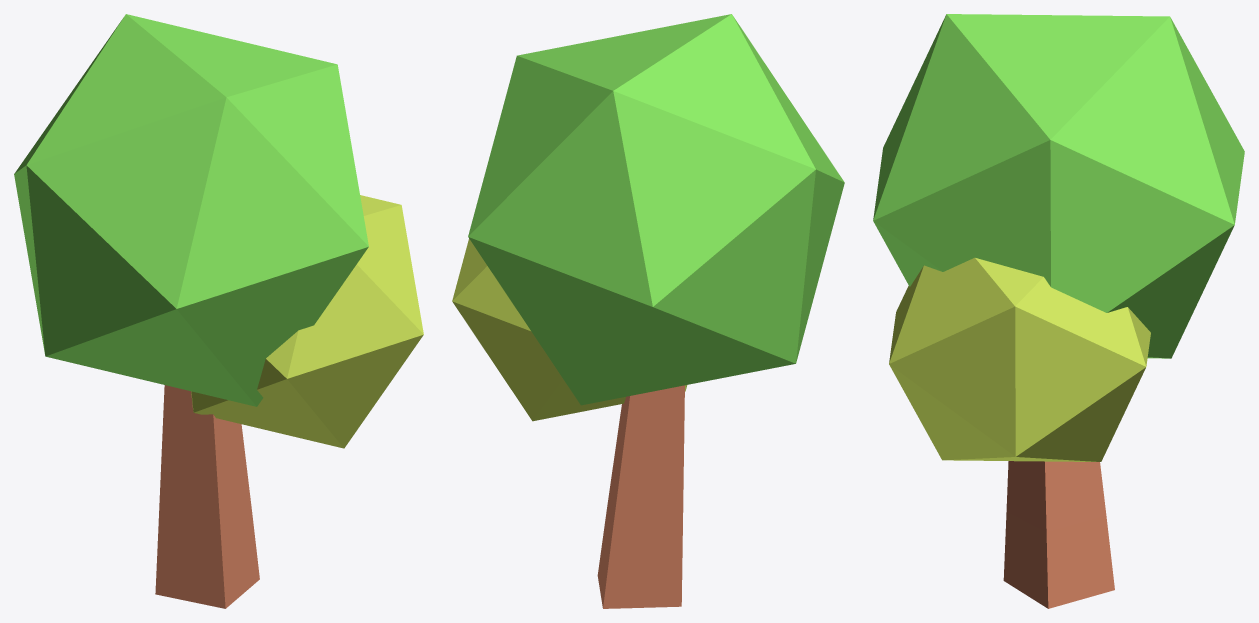
File: Tree 14.fbx
3 renders of one model, left to right at view 1: azimuth 30°, elevation 25°; view 2: azimuth 150°, elevation 25°; view 3: azimuth 270°, elevation 25°, orthographic. The views are drawn at different scales.
Parts seen in each view (by area): view 1: Tree 14; view 2: Tree 14; view 3: Tree 14.
Part boxes in pixels (left/top/right/bottom): Tree 14: left=14, top=14, right=423, bottom=608; Tree 14: left=452, top=14, right=844, bottom=608; Tree 14: left=873, top=14, right=1244, bottom=608.
Bounding box in the file's own units: 175 × 248 × 150.
